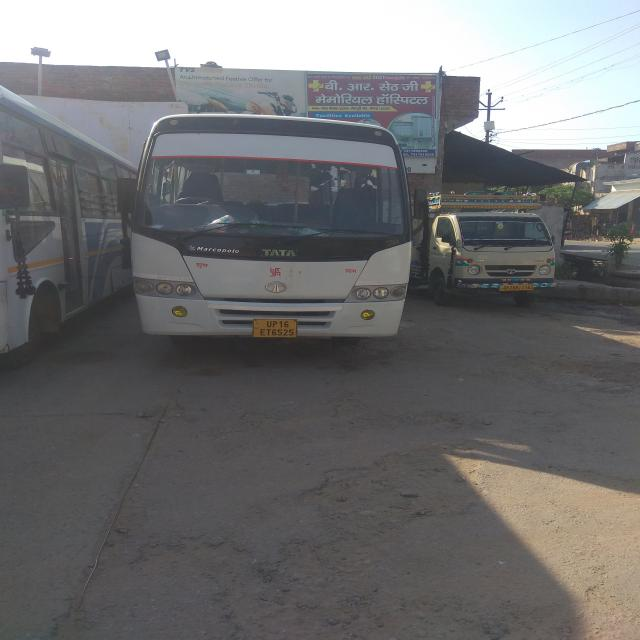Bus: (114, 111, 418, 345)
cars: (430, 198, 569, 316)
